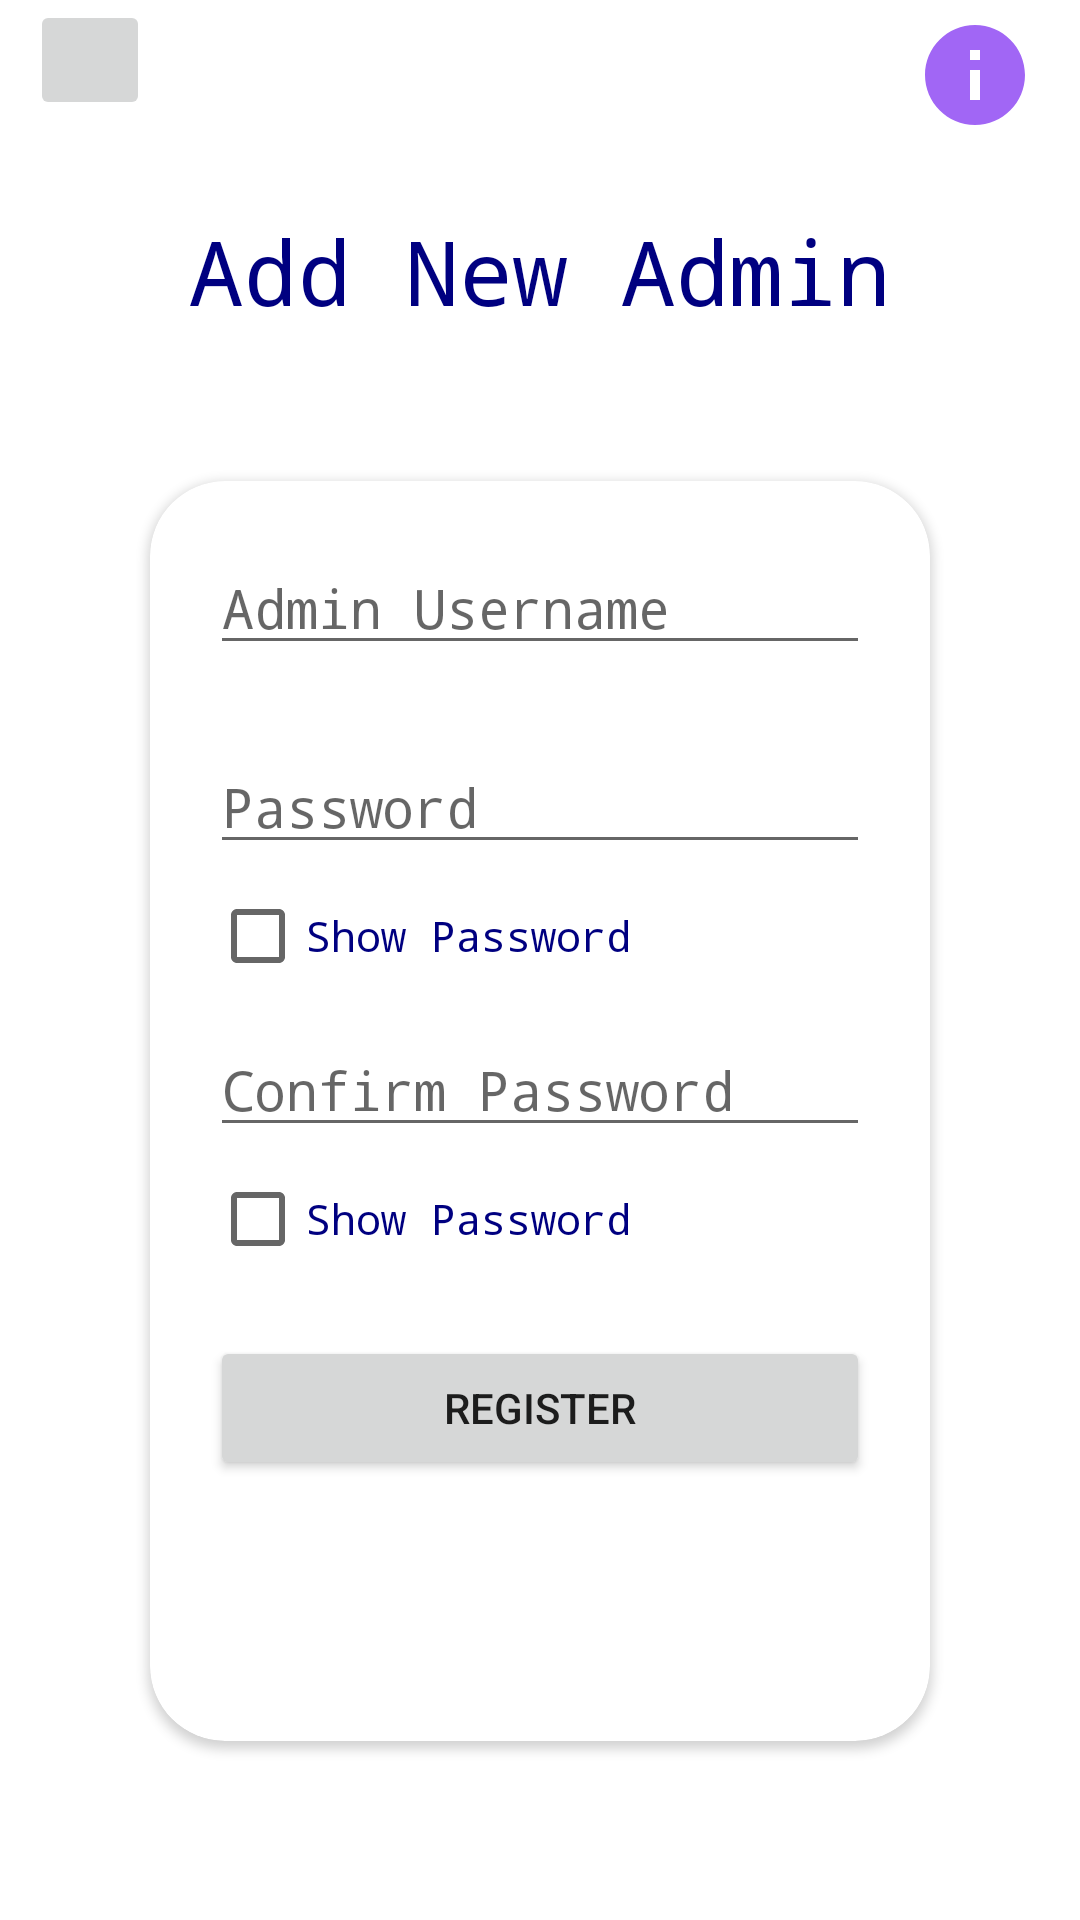

Icon click points for this 1080*1920 phone screenshot, format point (x, y):
info: point (975, 75)
